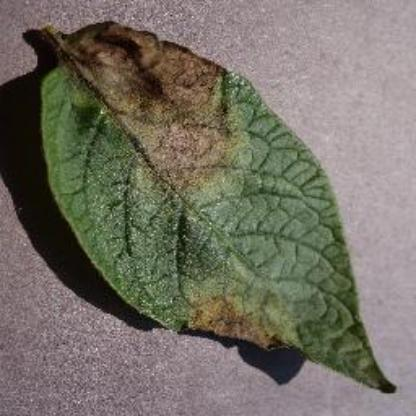Late-Blight: (24, 8, 406, 394)
